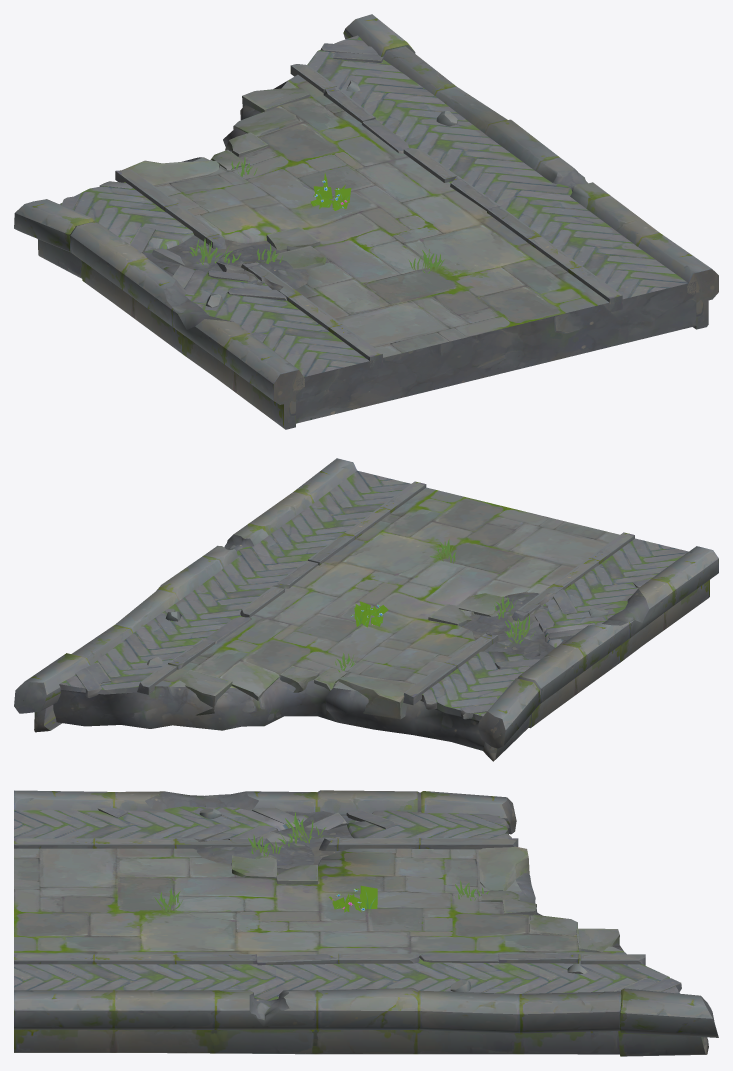
File: Area_MdBuild_SdBridge23_Group.fbx
3 views of the same model, one above another, from view 1: azimuth 30°, elevation 25°; view 2: azimuth 150°, elevation 25°; view 3: azimuth 270°, elevation 25° (orthographic). The views are drawn at different scales.
Visible parts, largest first — view 1: Area_MdBuild_SdBridge23_Lod0, Stages_SGrass16_Vo; view 2: Area_MdBuild_SdBridge23_Lod0, Stages_SGrass16_Vo; view 3: Area_MdBuild_SdBridge23_Lod0, Stages_SGrass16_Vo, Stages_SGrass21_Vo (3).
Part boxes in pixels (x1,y1,x2,y2): Area_MdBuild_SdBridge23_Lod0: (14, 14, 718, 429); Stages_SGrass16_Vo: (310, 173, 351, 210); Area_MdBuild_SdBridge23_Lod0: (14, 458, 718, 761); Stages_SGrass16_Vo: (350, 601, 388, 627); Area_MdBuild_SdBridge23_Lod0: (14, 790, 718, 1056); Stages_SGrass16_Vo: (329, 885, 377, 912); Stages_SGrass21_Vo (3): (277, 812, 326, 847).
Bounding box in the file's own units: 10.83 × 1.78 × 14.46.
Materials: 7 (7 with a texture image).
